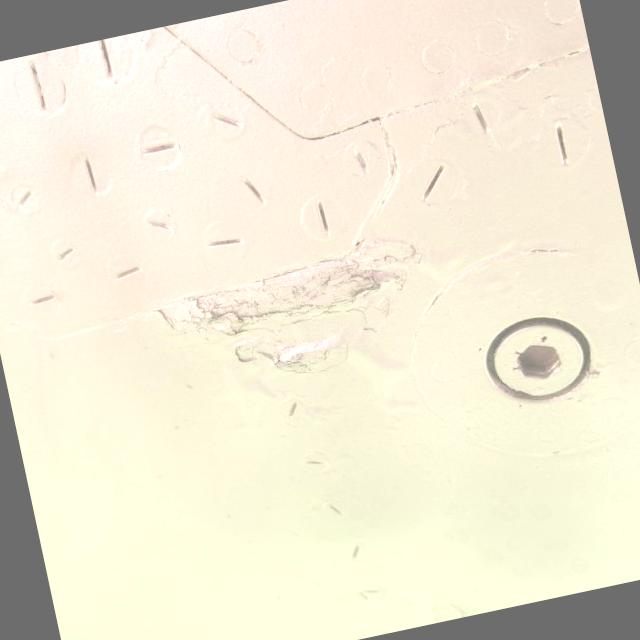paint-off: (140, 218, 450, 418)
